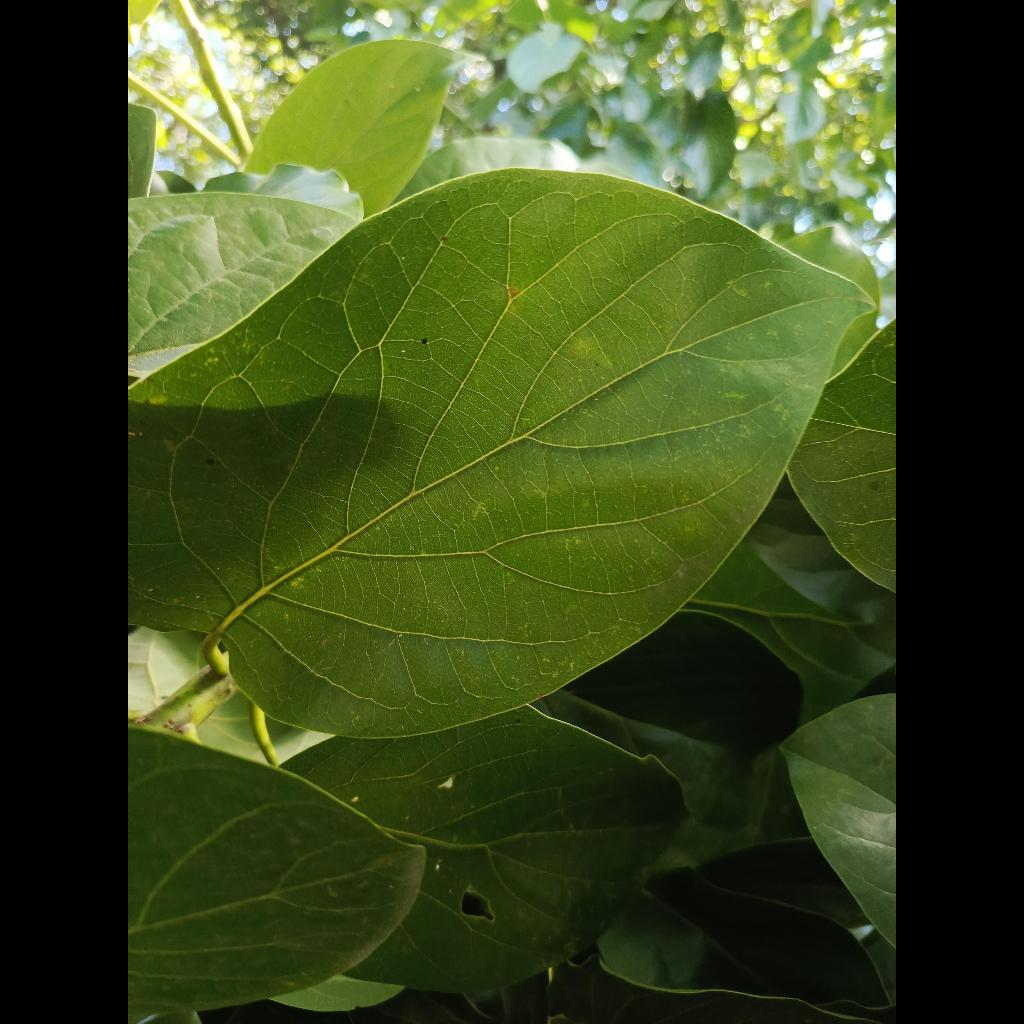hoja_sana: (128, 169, 866, 738)
